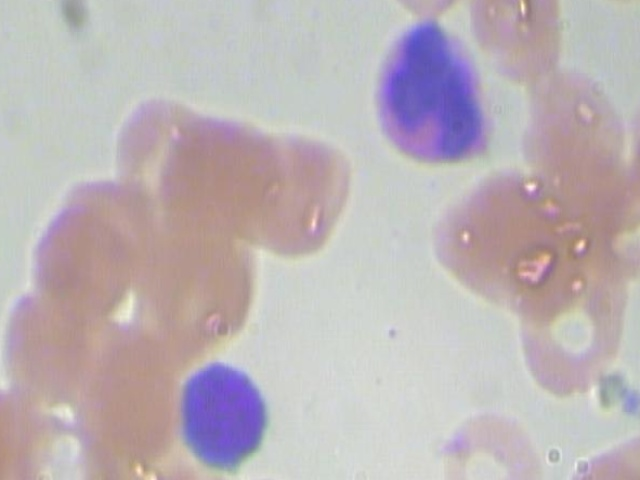RBC: (514, 245, 633, 405), (233, 132, 360, 270), (509, 60, 635, 198), (24, 203, 141, 328), (102, 87, 219, 211), (0, 286, 106, 410), (4, 400, 121, 480), (453, 0, 580, 72), (429, 413, 555, 480), (356, 0, 481, 18)
WBC: (361, 14, 503, 174), (172, 354, 278, 473)
